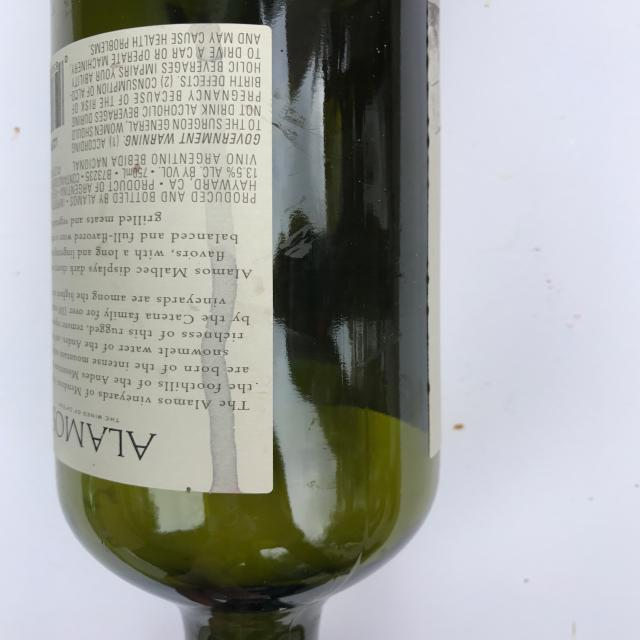glass: (49, 0, 442, 640)
